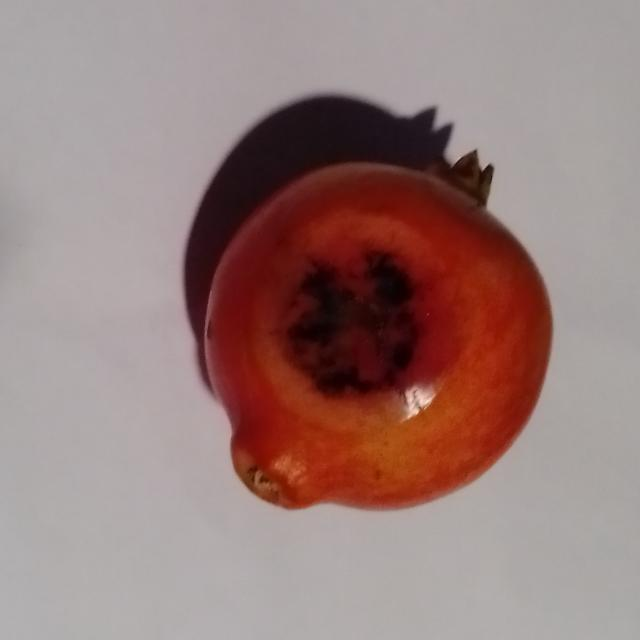Rotten: (195, 137, 562, 519)
